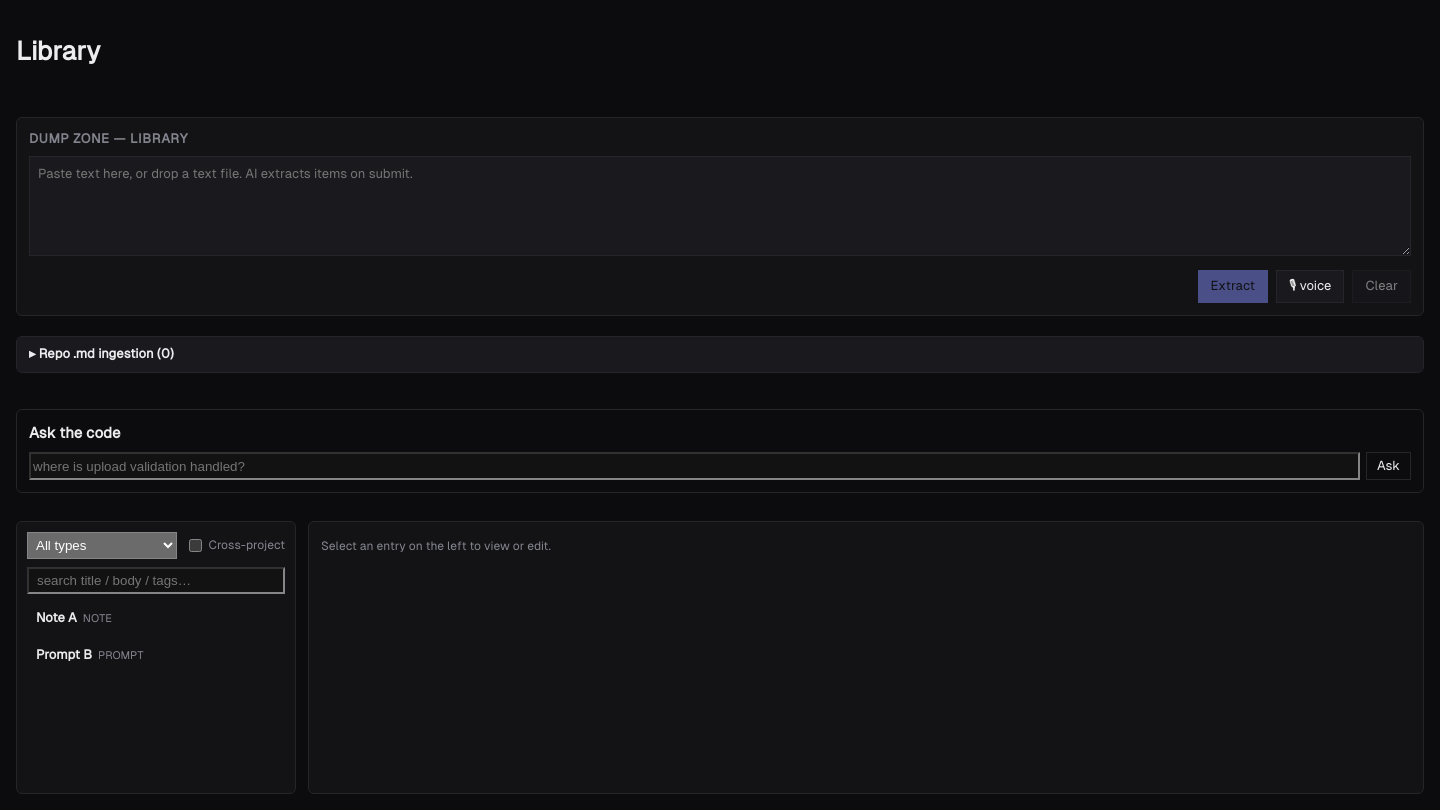
Test: LibraryView › type filter narrows the visible entries
Expected: the text "Note A" is shown, [36,610,77,626]
Step 1. Select "Prompts" in the dropdown with test id "library-type-filter" → (102, 546), box [27,532,177,560]
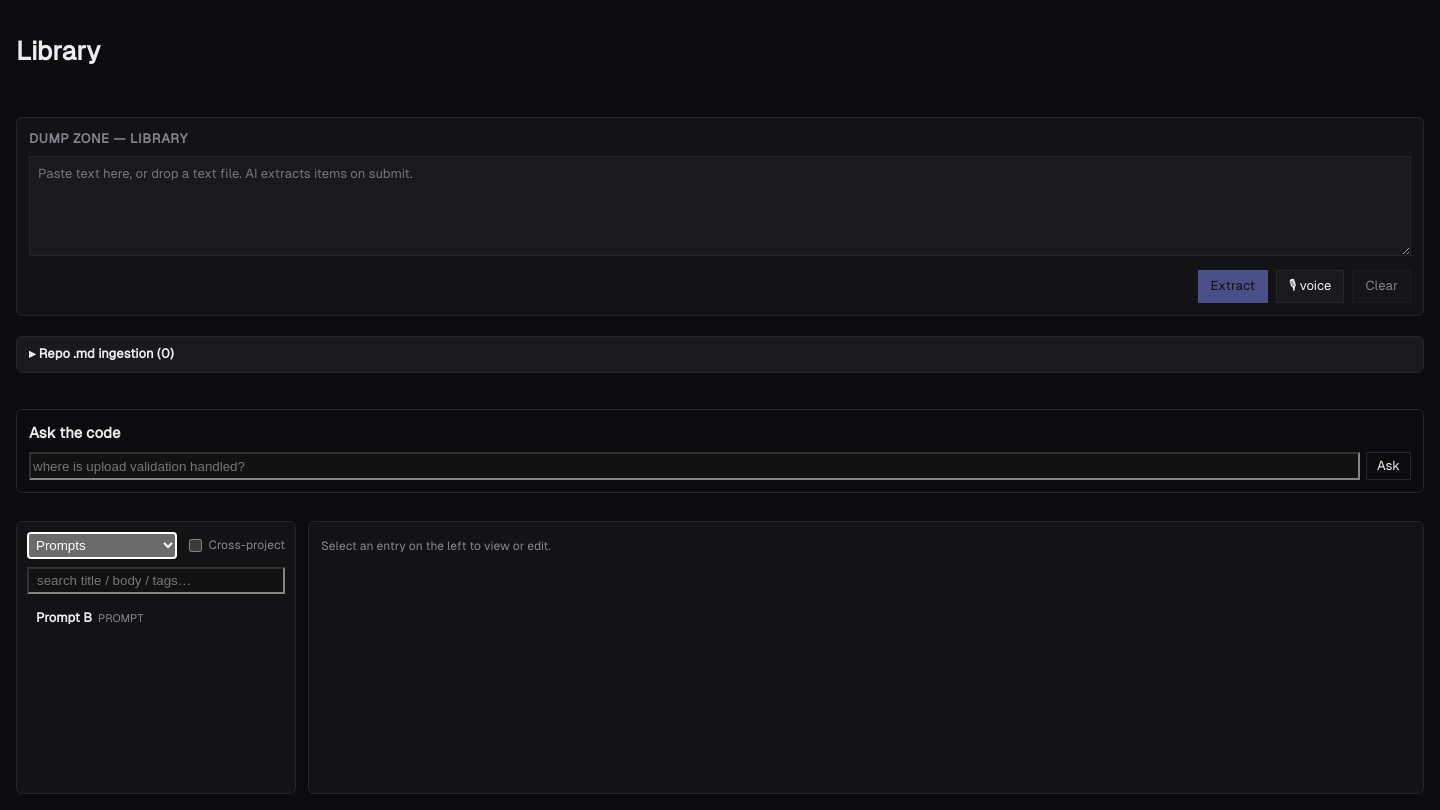
Expected: the text "Prompt B" is shown, [36,610,92,626]
Now the text "Note A" is gone
